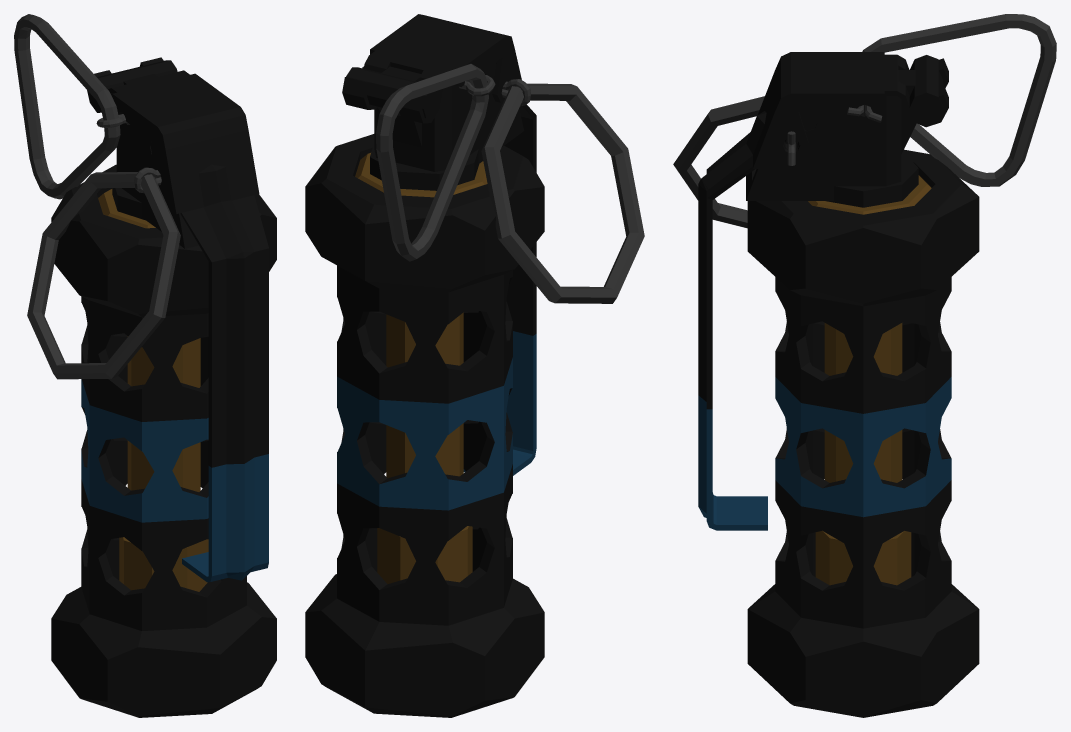
Rendered from strun_grenade.obj.
The picture shows the model from 3 angles, left to right: view 1: azimuth 30°, elevation 25°; view 2: azimuth 150°, elevation 25°; view 3: azimuth 270°, elevation 25°; orthographic projection. The views are drawn at different scales.
Parts seen in each view (by area): view 1: M84_Stun_Grenade_1_M84_Stun_Grenade_1_Material_1_0, M84_Stun_Grenade_1_Safety_Level_1_M84_Stun_Grenade_1_Material_1_, M84_Stun_Grenade_1_M84_Stun_Grenade_1_Material_2_0, M84_Stun_Grenade_1_Safety_Pin_1_Ring_1_M84_Stun_Grenade_1_Materi, M84_Stun_Grenade_1_Safety_Level_1_M84_Stun_Grenade_1_Material_2_, M84_Stun_Grenade_1_M84_Stun_Grenade_1_Material_3_0, M84_Stun_Grenade_1_Secondary_Safety_Pin_1_Ring_1_M84_Stun_Grenad; view 2: M84_Stun_Grenade_1_M84_Stun_Grenade_1_Material_1_0, M84_Stun_Grenade_1_M84_Stun_Grenade_1_Material_2_0, M84_Stun_Grenade_1_Safety_Level_1_M84_Stun_Grenade_1_Material_1_, M84_Stun_Grenade_1_Safety_Pin_1_Ring_1_M84_Stun_Grenade_1_Materi, M84_Stun_Grenade_1_M84_Stun_Grenade_1_Material_3_0, M84_Stun_Grenade_1_Secondary_Safety_Pin_1_Ring_1_M84_Stun_Grenad, M84_Stun_Grenade_1_Safety_Level_1_M84_Stun_Grenade_1_Material_2_; view 3: M84_Stun_Grenade_1_M84_Stun_Grenade_1_Material_1_0, M84_Stun_Grenade_1_Safety_Level_1_M84_Stun_Grenade_1_Material_1_, M84_Stun_Grenade_1_M84_Stun_Grenade_1_Material_2_0, M84_Stun_Grenade_1_M84_Stun_Grenade_1_Material_3_0, M84_Stun_Grenade_1_Secondary_Safety_Pin_1_Ring_1_M84_Stun_Grenad, M84_Stun_Grenade_1_Safety_Level_1_M84_Stun_Grenade_1_Material_2_, M84_Stun_Grenade_1_Safety_Pin_1_Ring_1_M84_Stun_Grenade_1_Materi.
Part boxes in pixels (x1=…): M84_Stun_Grenade_1_M84_Stun_Grenade_1_Material_1_0: x1=51, y1=60, x2=276, y2=717; M84_Stun_Grenade_1_Safety_Level_1_M84_Stun_Grenade_1_Material_1_: x1=87, y1=57, x2=268, y2=467; M84_Stun_Grenade_1_M84_Stun_Grenade_1_Material_2_0: x1=81, y1=379, x2=208, y2=522; M84_Stun_Grenade_1_Safety_Pin_1_Ring_1_M84_Stun_Grenade_1_Materi: x1=27, y1=172, x2=180, y2=379; M84_Stun_Grenade_1_Safety_Level_1_M84_Stun_Grenade_1_Material_2_: x1=182, y1=454, x2=268, y2=582; M84_Stun_Grenade_1_M84_Stun_Grenade_1_Material_3_0: x1=98, y1=189, x2=208, y2=591; M84_Stun_Grenade_1_Secondary_Safety_Pin_1_Ring_1_M84_Stun_Grenad: x1=14, y1=14, x2=120, y2=199; M84_Stun_Grenade_1_M84_Stun_Grenade_1_Material_1_0: x1=305, y1=61, x2=544, y2=717; M84_Stun_Grenade_1_M84_Stun_Grenade_1_Material_2_0: x1=337, y1=357, x2=512, y2=510; M84_Stun_Grenade_1_Safety_Level_1_M84_Stun_Grenade_1_Material_1_: x1=342, y1=14, x2=536, y2=335; M84_Stun_Grenade_1_Safety_Pin_1_Ring_1_M84_Stun_Grenade_1_Materi: x1=481, y1=83, x2=644, y2=303; M84_Stun_Grenade_1_M84_Stun_Grenade_1_Material_3_0: x1=355, y1=153, x2=487, y2=583; M84_Stun_Grenade_1_Secondary_Safety_Pin_1_Ring_1_M84_Stun_Grenad: x1=376, y1=64, x2=488, y2=261; M84_Stun_Grenade_1_Safety_Level_1_M84_Stun_Grenade_1_Material_2_: x1=463, y1=331, x2=536, y2=475; M84_Stun_Grenade_1_M84_Stun_Grenade_1_Material_1_0: x1=746, y1=55, x2=979, y2=717; M84_Stun_Grenade_1_Safety_Level_1_M84_Stun_Grenade_1_Material_1_: x1=698, y1=52, x2=948, y2=409; M84_Stun_Grenade_1_M84_Stun_Grenade_1_Material_2_0: x1=775, y1=377, x2=951, y2=517; M84_Stun_Grenade_1_M84_Stun_Grenade_1_Material_3_0: x1=808, y1=175, x2=931, y2=585; M84_Stun_Grenade_1_Secondary_Safety_Pin_1_Ring_1_M84_Stun_Grenad: x1=862, y1=14, x2=1056, y2=186; M84_Stun_Grenade_1_Safety_Level_1_M84_Stun_Grenade_1_Material_2_: x1=698, y1=395, x2=767, y2=530; M84_Stun_Grenade_1_Safety_Pin_1_Ring_1_M84_Stun_Grenade_1_Materi: x1=673, y1=96, x2=764, y2=228.
Size of the model in its own units: 0.0548 by 0.1406 by 0.0769.
